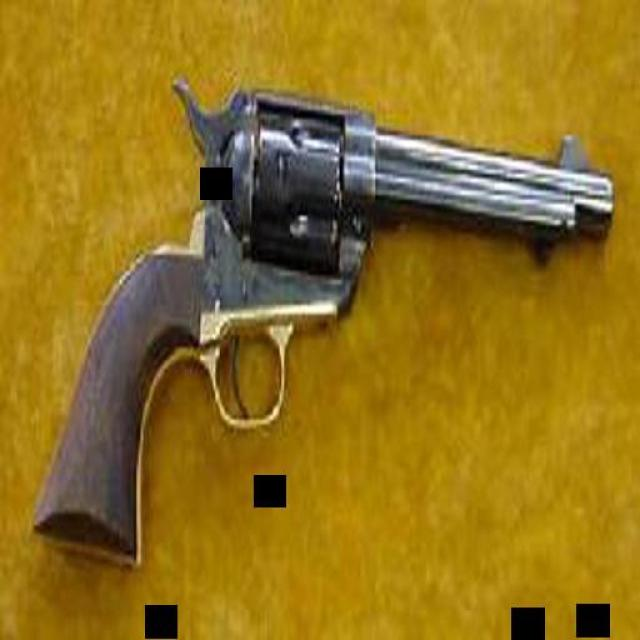gun: (26, 66, 619, 558)
